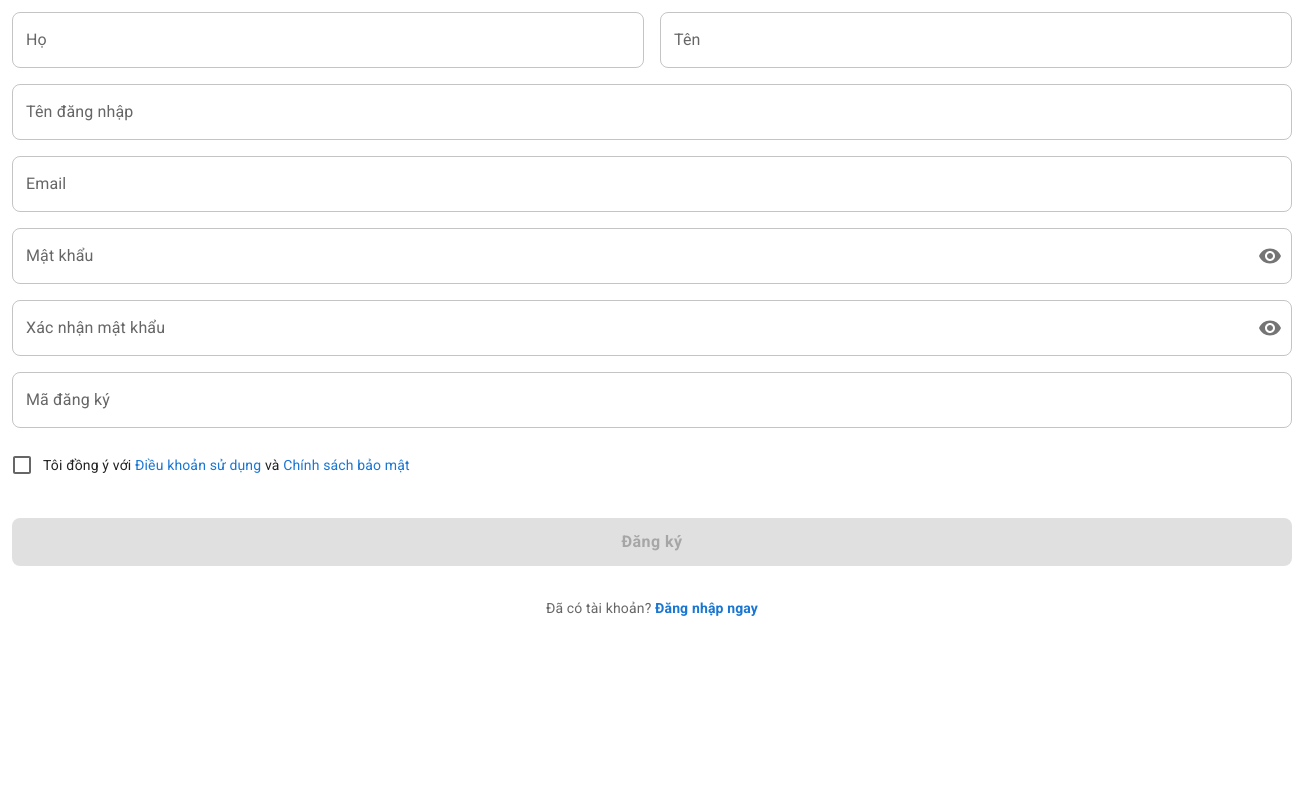
Test: RegisterForm Component › Form Validation › should validate password confirmation
This screenshot has width=1304, height=812.
Type "Password123!" into the password field with test id "password-input" at (627, 256), box [12,228,1242,284]
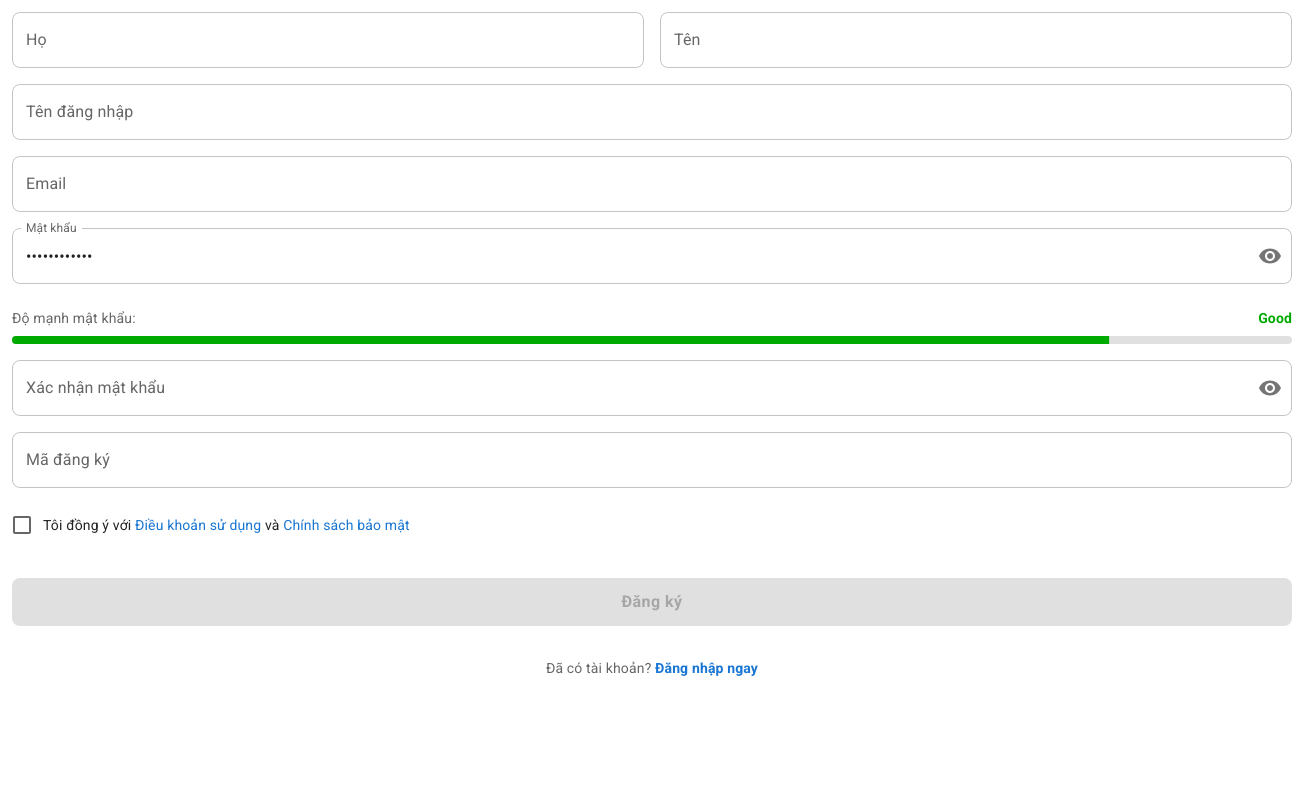
Type "DifferentPassword123!" into the password field with test id "confirm-password-input" at (627, 388), box [12,360,1242,416]
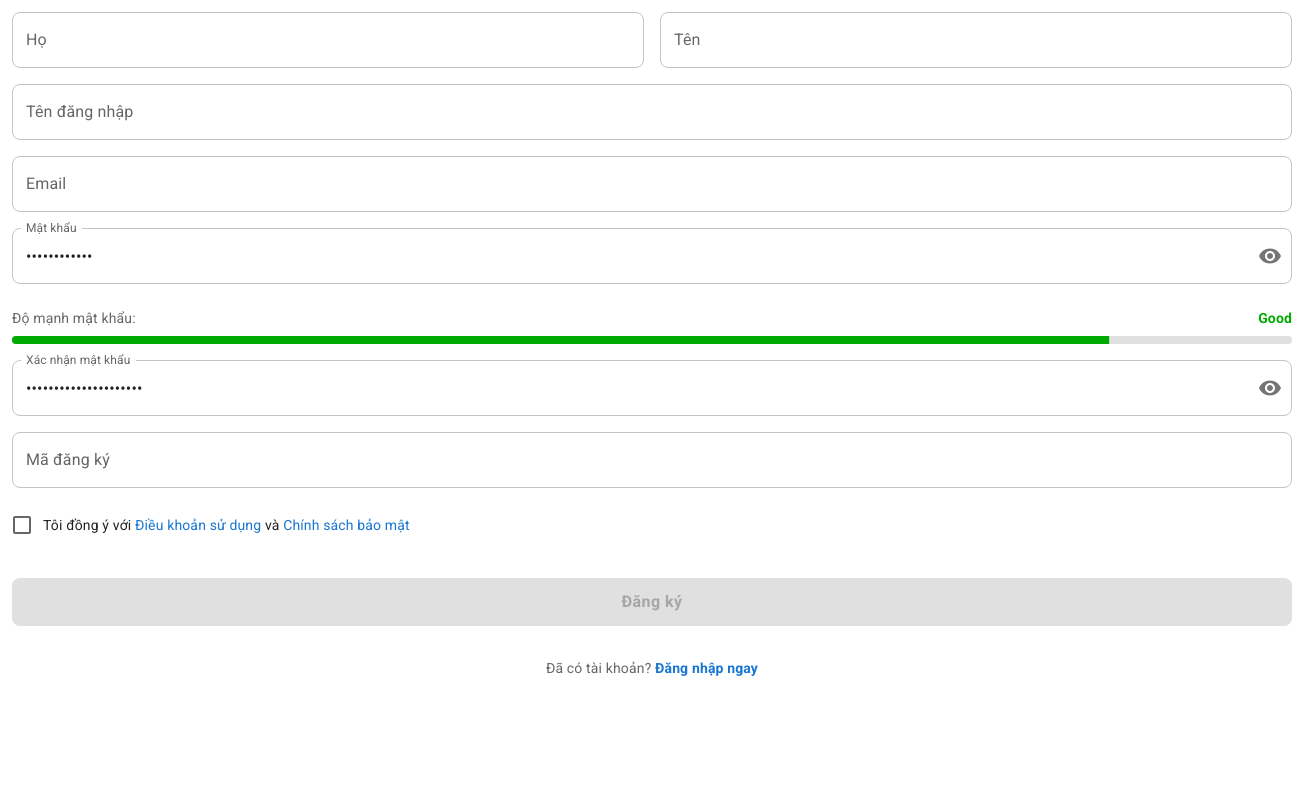
Leave the password field with test id "confirm-password-input", box [12,360,1242,416]
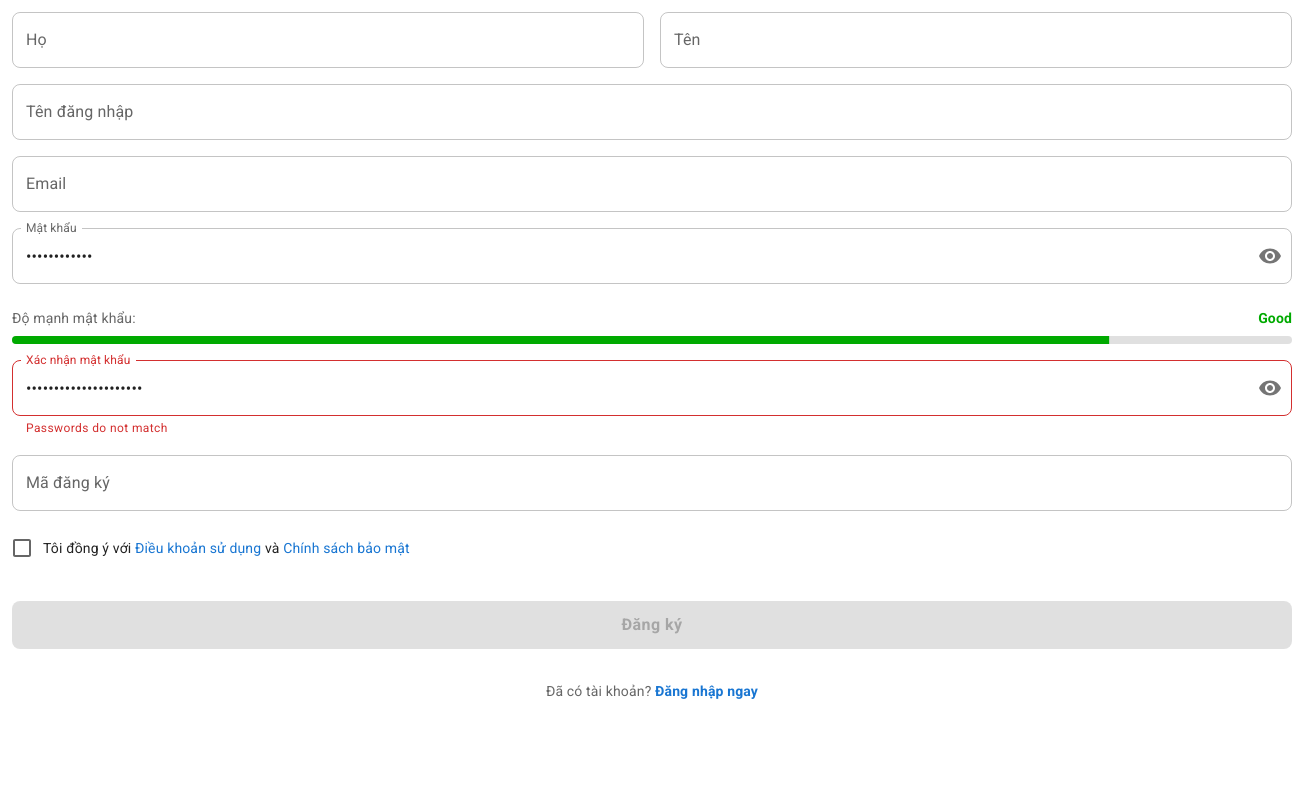
Check: the text "Passwords do not match" is shown, box [26,421,168,435]
